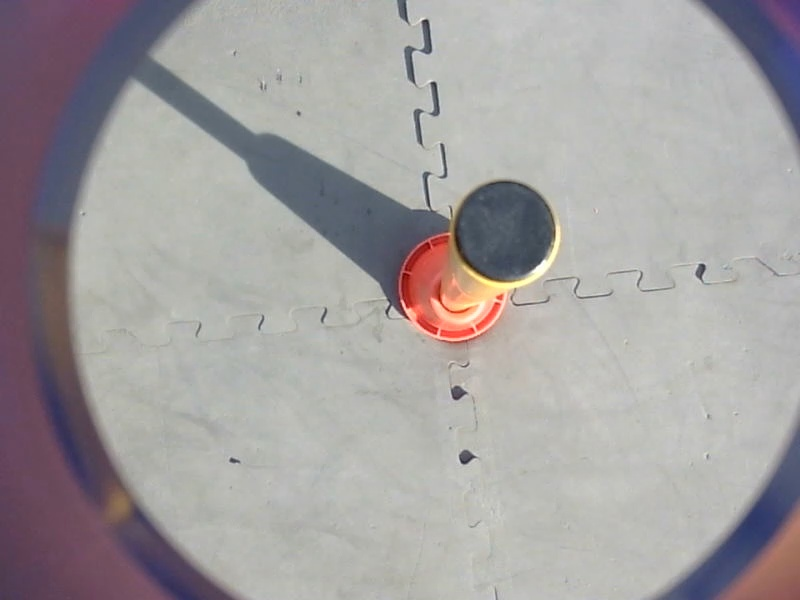tip: (443, 174, 566, 297)
